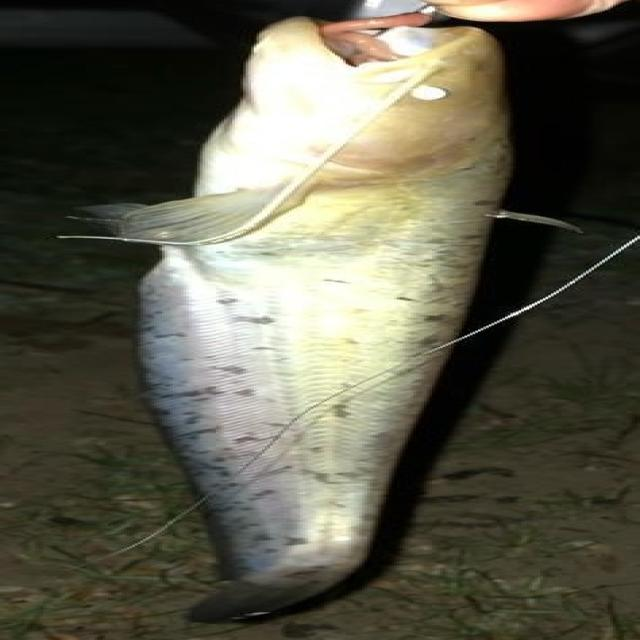Catfish: (74, 15, 581, 625)
